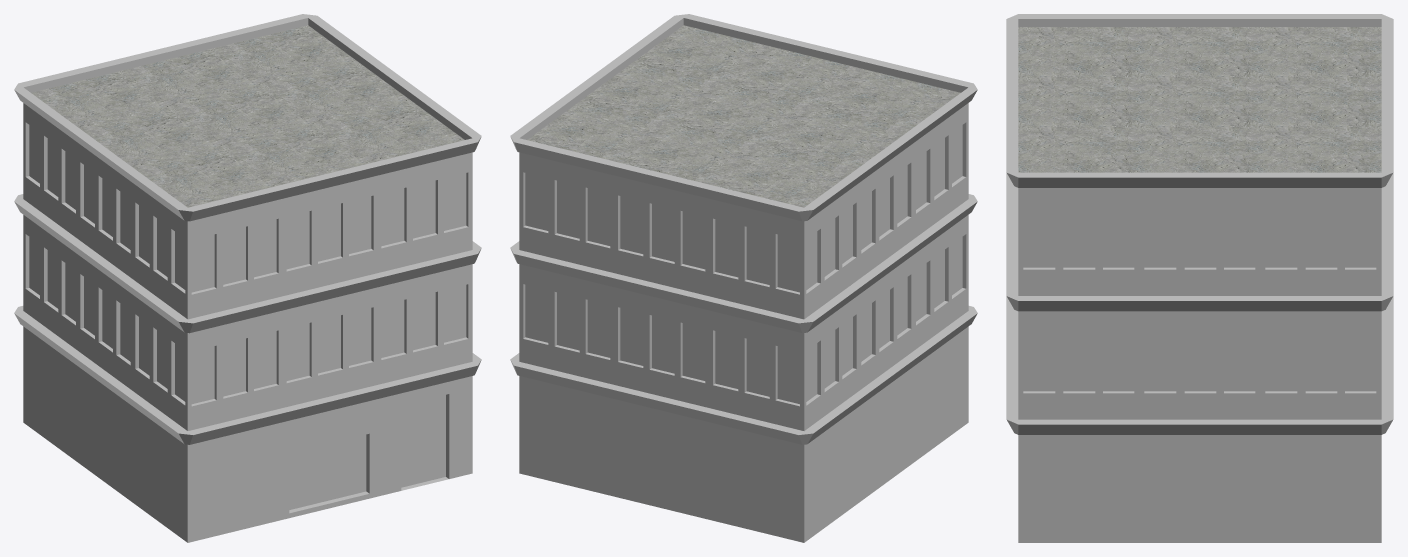
The model's file is RV_Building_Type_C_02.fbx.
3 renders of one model, left to right at view 1: azimuth 30°, elevation 25°; view 2: azimuth 150°, elevation 25°; view 3: azimuth 270°, elevation 25°, orthographic. The views are drawn at different scales.
Visible parts, largest first — view 1: RV_Building_Type_C_02; view 2: RV_Building_Type_C_02; view 3: RV_Building_Type_C_02.
Boxes of the visible parts, box(x1,y1,x2,y2) form: RV_Building_Type_C_02: box(14, 14, 481, 542); RV_Building_Type_C_02: box(510, 14, 977, 542); RV_Building_Type_C_02: box(1006, 14, 1393, 542).
Size of the model in its own units: 818 by 864 by 818.
